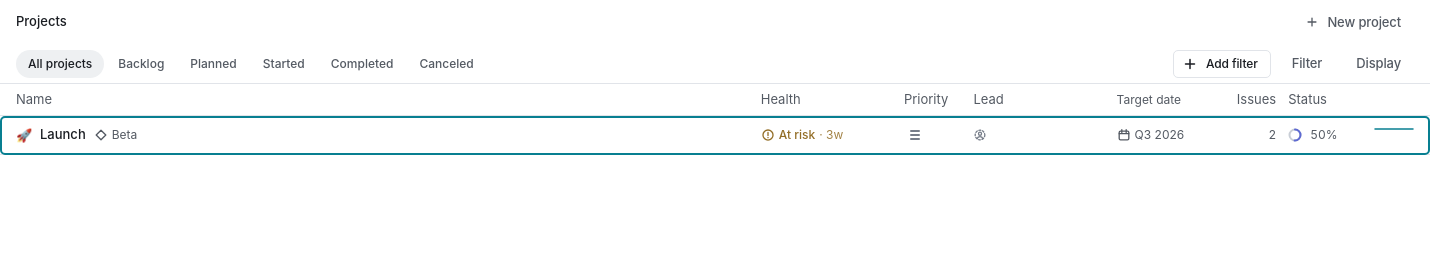
Test case: Projects table › offers a ghost "New project" in the header and status pills in the toolbar
Expected: the button "New project" is shown, [1292,8,1414,36]
Expected: the button "All projects" is shown, [16,50,104,78]
Click the button "Completed": (362, 64) [319,50,405,78]
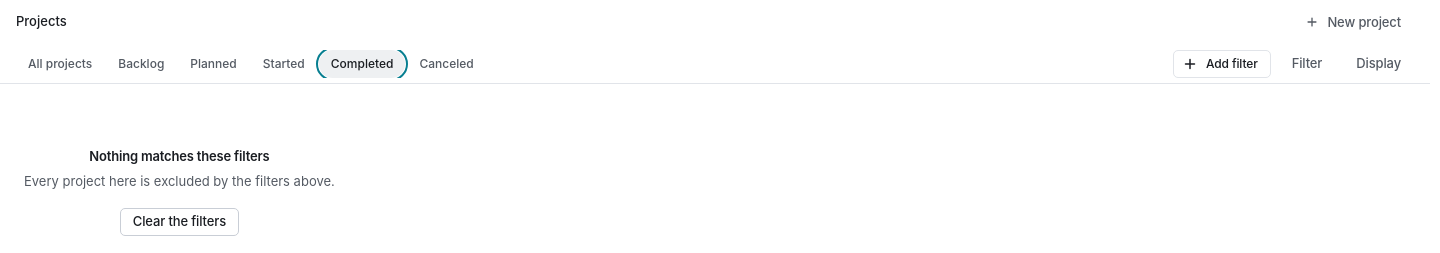
Result: the text "Nothing matches these filters" is shown at [89,148,270,164]
